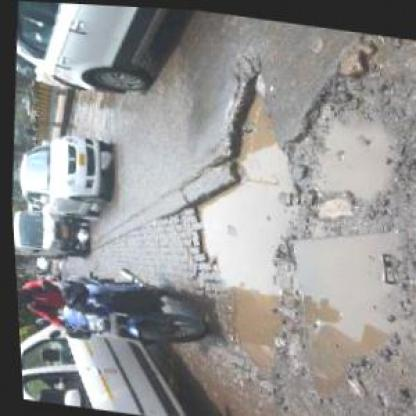pothole: (160, 51, 304, 372), (266, 208, 409, 402), (277, 78, 402, 209)
